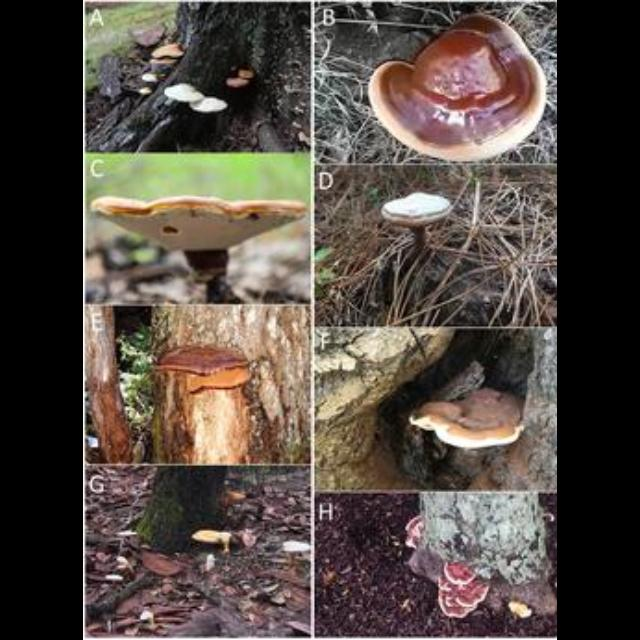ganoderma: (370, 14, 549, 162), (92, 196, 310, 255), (409, 389, 529, 450), (152, 344, 257, 394), (439, 562, 492, 621), (381, 191, 451, 229), (165, 84, 229, 115), (150, 43, 188, 67), (404, 515, 428, 552), (191, 530, 233, 546), (226, 70, 257, 88), (144, 74, 169, 83)
primordium: (509, 597, 538, 622), (283, 541, 312, 559), (139, 611, 157, 633), (115, 556, 139, 572), (105, 574, 127, 588), (139, 88, 155, 97)
